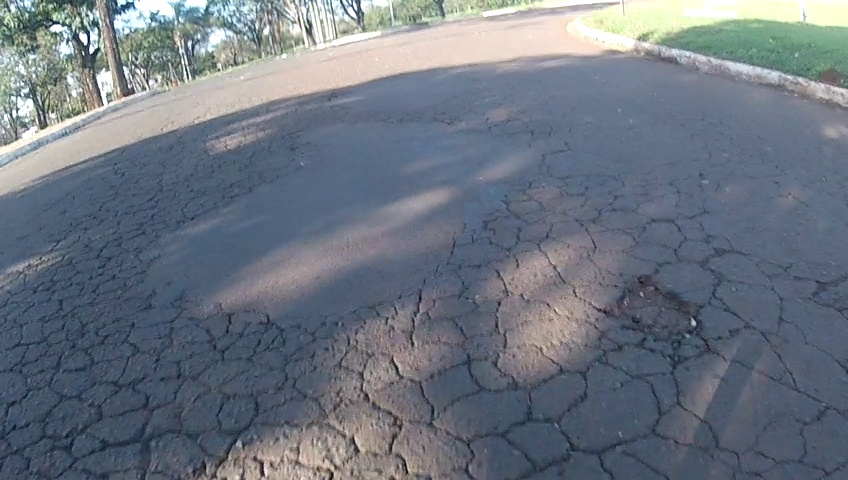trinca: (10, 260, 382, 480)
